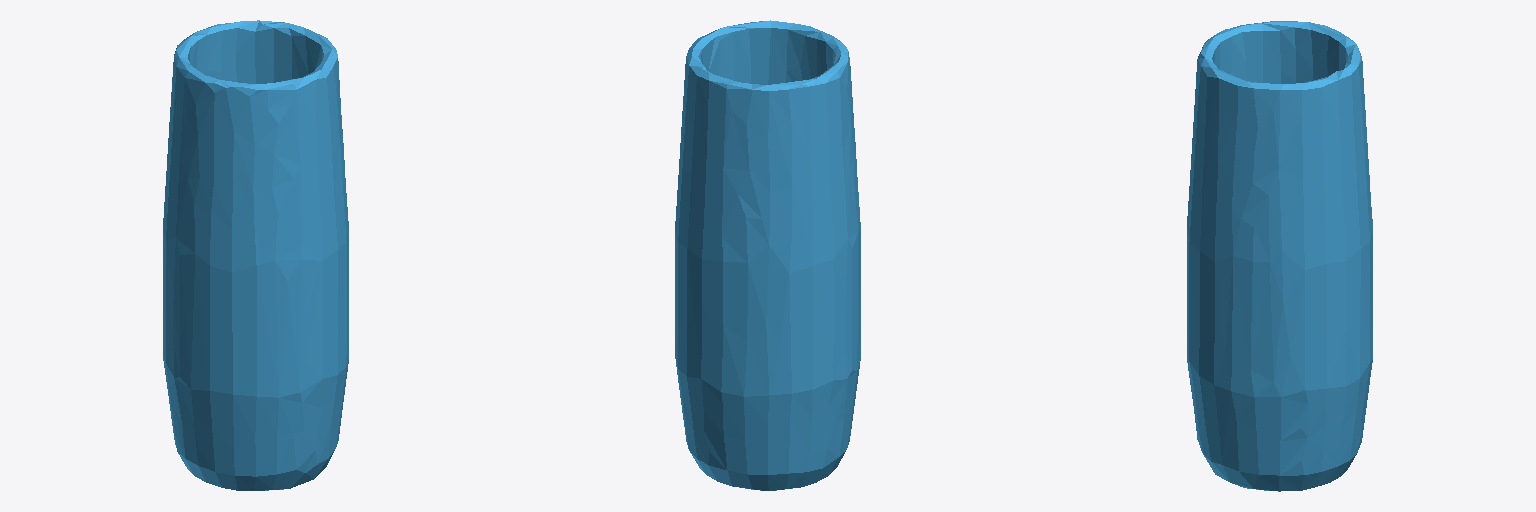
The robot description file, URDF, robot "Cup_3a3b19614d545834cd321262c762dc9_M":
<?xml version="1.0"?>
<robot name="Cup_3a3b19614d545834cd321262c762dc9_M">
  <link name="base"/>
  <link name="link_0">
  <visual>
    <origin xyz="0.0 0.0 0.0"/>
    <geometry>
      <mesh filename="Cup_3a3b19614d545834cd321262c762dc9_M.obj" scale="1.0 1.0 1.0"/>
    </geometry>
  </visual>
  <collision>
    <origin xyz="0.0 0.0 0.0"/>
    <geometry>
      <mesh filename="collision.obj" scale="1.0 1.0 1.0"/>
    </geometry>
  </collision>
  </link>
  <joint name="joint_0" type="fixed">
    <origin rpy="0 0 0" xyz="0 0 0"/>
    <child link="link_0"/>
    <parent link="base"/>
  </joint>
</robot>

--- Facts derived from the render (not from the file) ---
3 views of the same robot in one strip: view 1: azimuth 30°, elevation 25°; view 2: azimuth 150°, elevation 25°; view 3: azimuth 270°, elevation 25° (orthographic).
Model Cup_3a3b19614d545834cd321262c762dc9_M with 2 links and 1 joints (1 fixed), rooted at base, posed every joint at zero.
Visible links, largest first — view 1: link_0; view 2: link_0; view 3: link_0.
Boxes of the visible links, x1,y1,x2,y2 form: link_0: (163, 20, 348, 490); link_0: (675, 20, 860, 490); link_0: (1187, 21, 1372, 491).
Size in the robot's own frame: 0.0327 by 0.0327 by 0.0798 metres.
1 mesh visuals loaded from 1 distinct referenced files (1 OBJ).